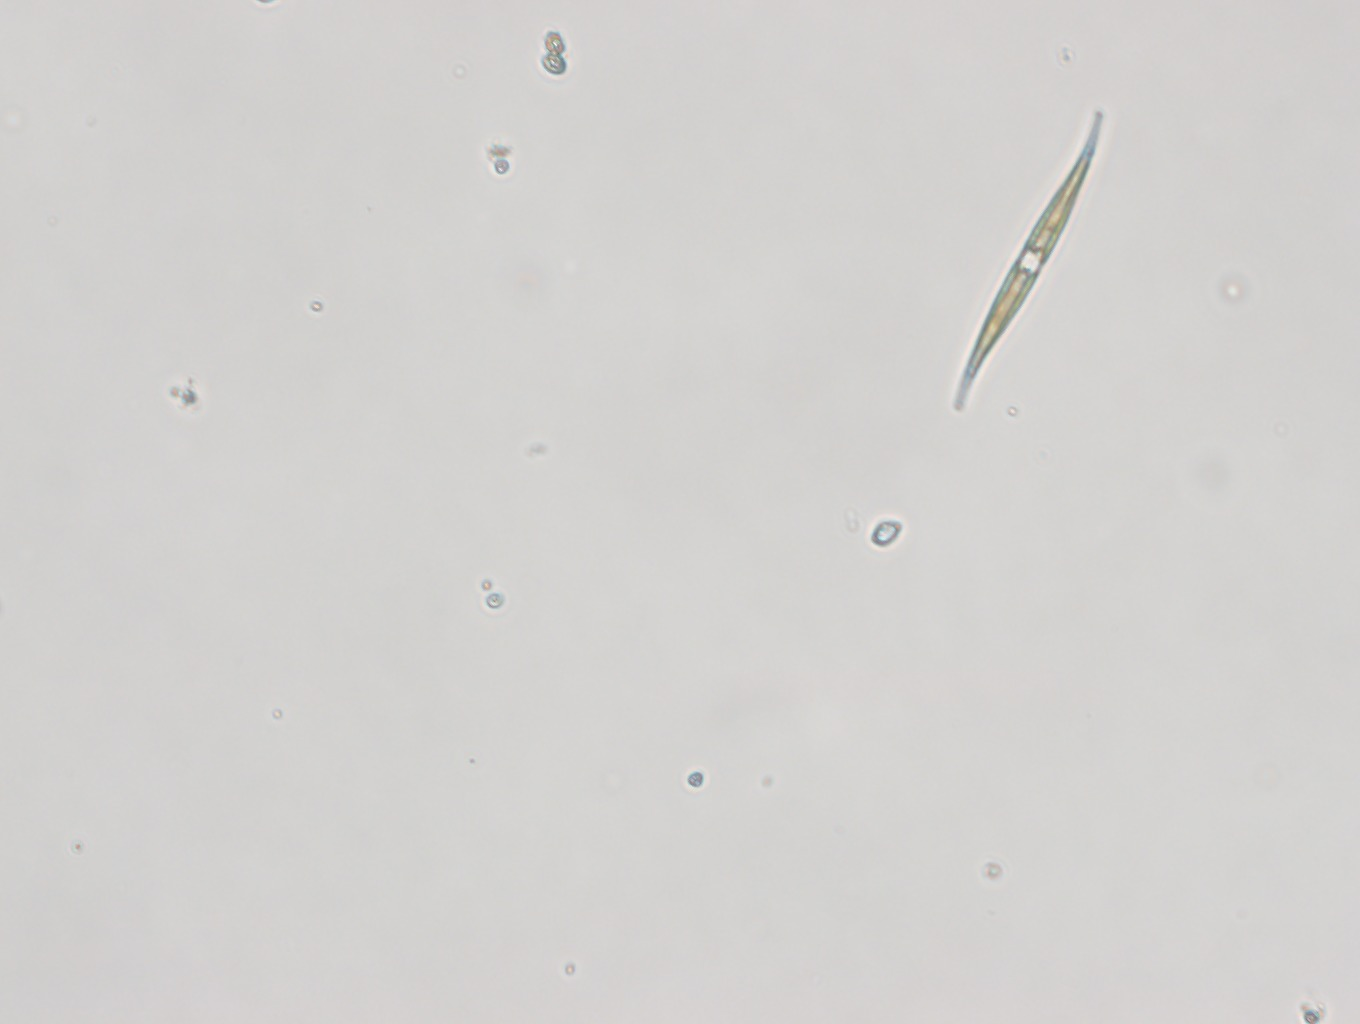pleurosigma pelagicum: (945, 109, 1111, 417)
